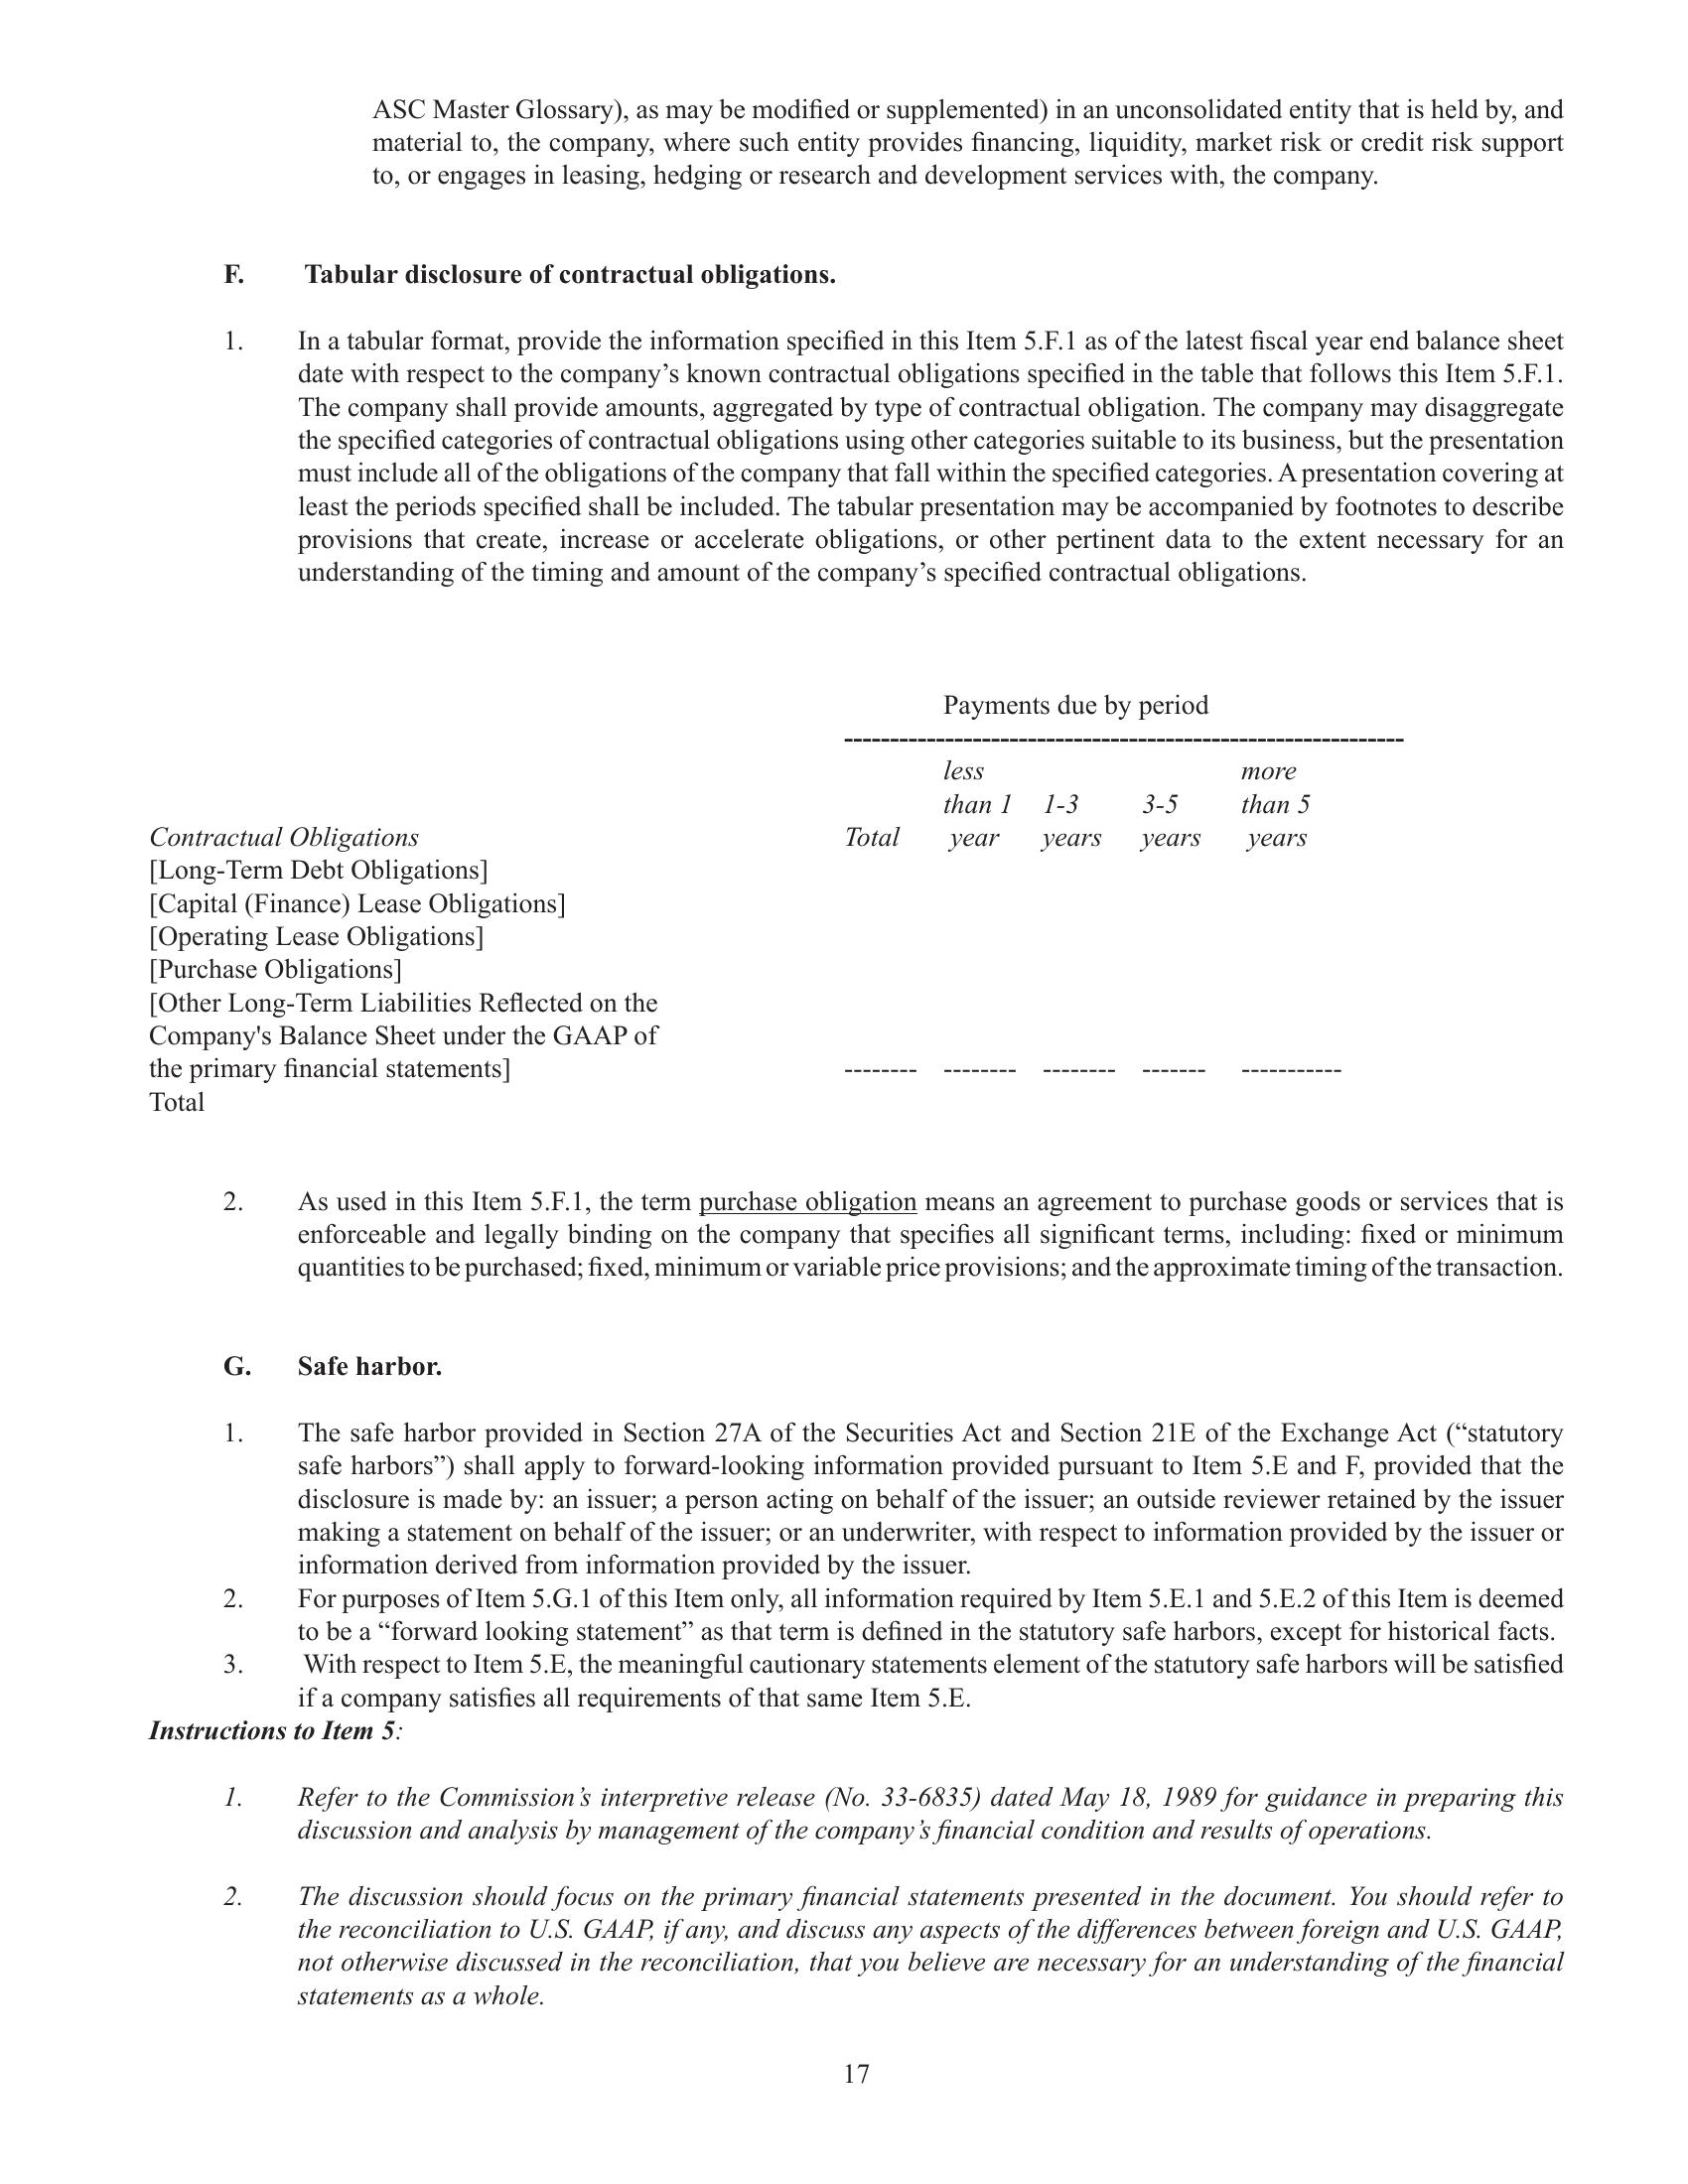table: (144, 684, 1411, 1094)
